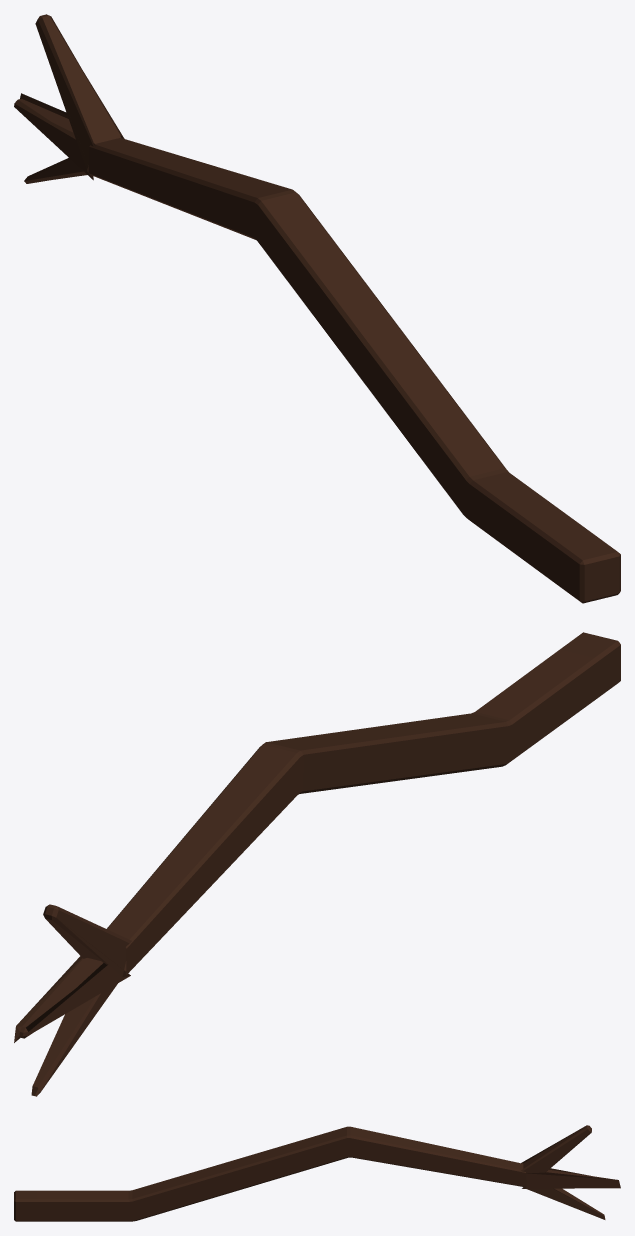
Rendered from Stickarm.fbx.
3 renders of one model, top to bottom at view 1: azimuth 30°, elevation 25°; view 2: azimuth 150°, elevation 25°; view 3: azimuth 270°, elevation 25°, orthographic. The views are drawn at different scales.
Visible parts, largest first — view 1: Cube.001; view 2: Cube.001; view 3: Cube.001.
Part boxes in pixels (x1,y1,x2,y2): Cube.001: [14, 14, 620, 603]; Cube.001: [14, 632, 620, 1096]; Cube.001: [14, 1125, 620, 1221].
Bounding box in the file's own units: 34.8 × 145 × 860.
